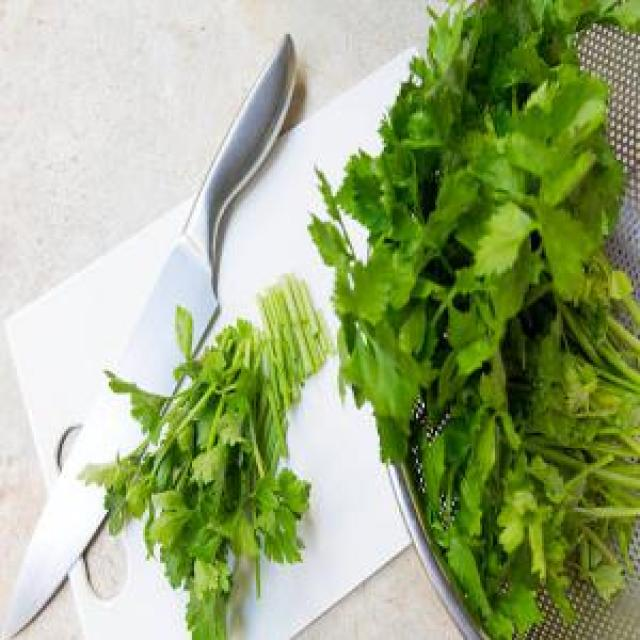knife: (0, 32, 295, 639)
